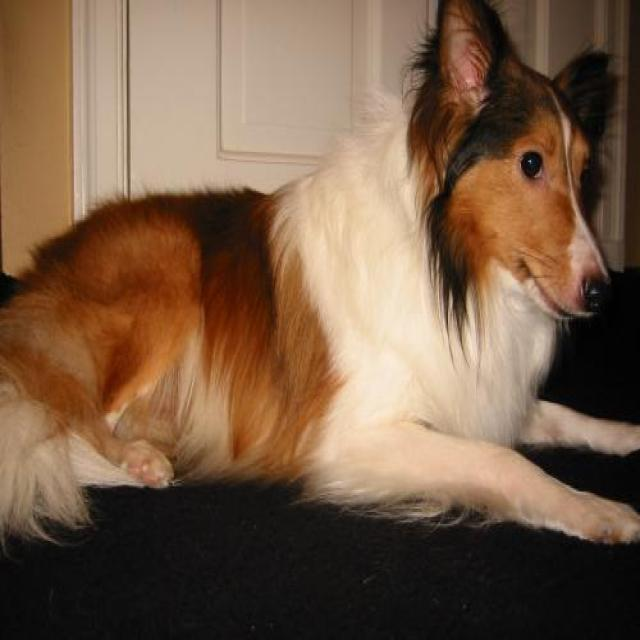Dogs: (0, 0, 639, 572)
